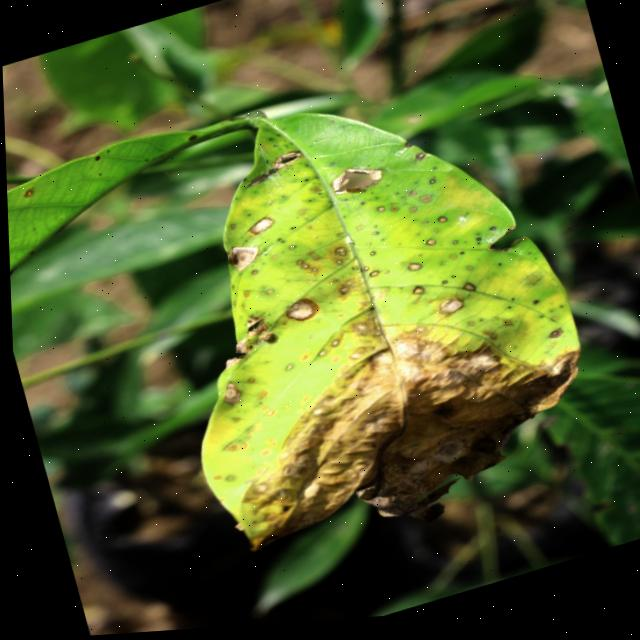Colletotrichum: (281, 297, 317, 328), (403, 266, 419, 278), (408, 290, 421, 301), (20, 188, 33, 198), (364, 274, 377, 283), (422, 243, 433, 252), (434, 221, 444, 230), (373, 210, 382, 218), (297, 266, 306, 274), (365, 256, 373, 263), (293, 263, 301, 269), (359, 271, 366, 276), (448, 246, 454, 250), (438, 286, 444, 289)
Leaf-Blight: (215, 294, 610, 576)
